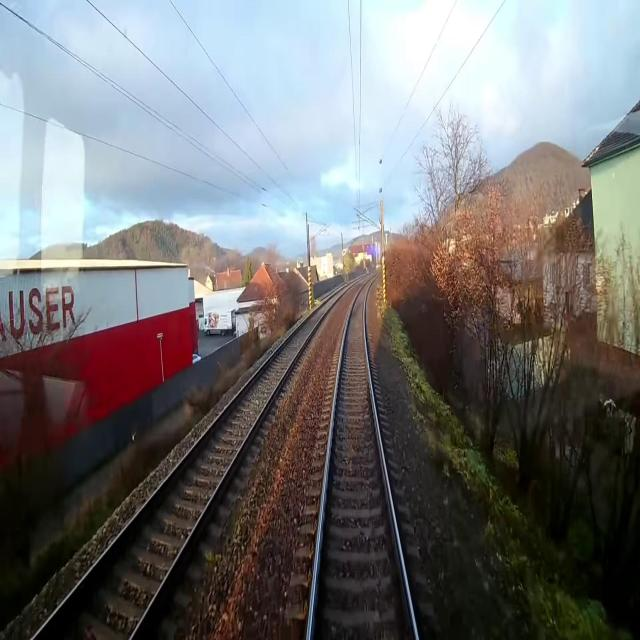rail-track: (36, 284, 349, 639), (310, 276, 415, 639)
